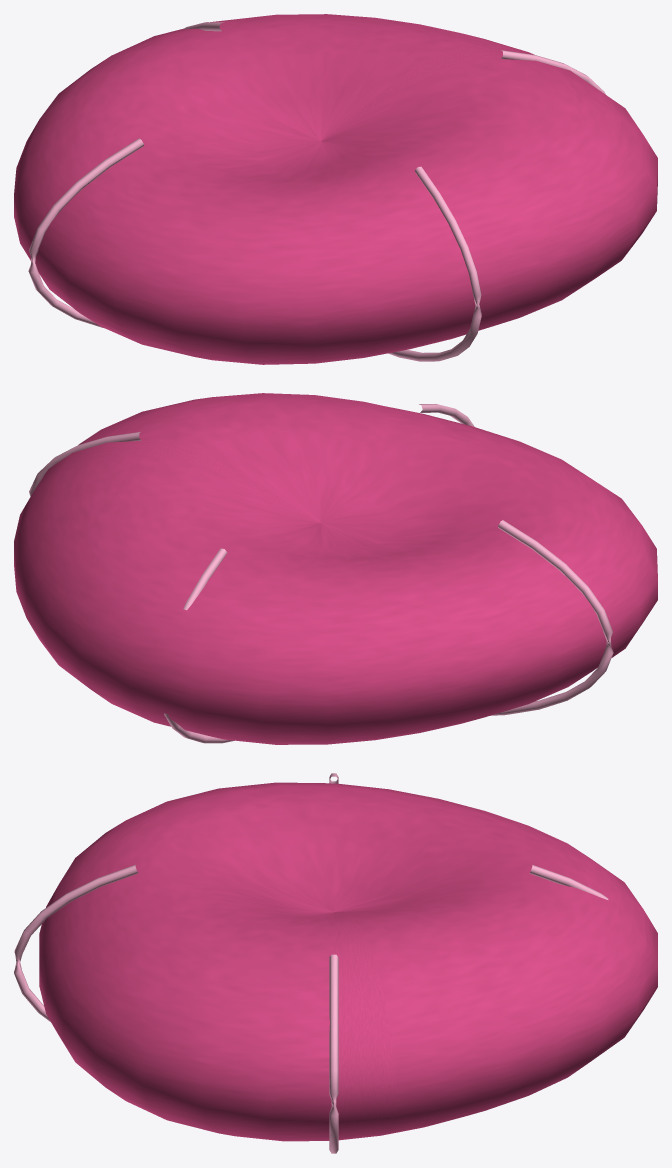
The model's file is citadel_party_beanbag.glb.
3 renders of one model, top to bottom at view 1: azimuth 30°, elevation 25°; view 2: azimuth 150°, elevation 25°; view 3: azimuth 270°, elevation 25°, orthographic.
Parts seen in each view (by area): view 1: Velvet_Pink, Satin_Blush2; view 2: Velvet_Pink, Satin_Blush2; view 3: Velvet_Pink, Satin_Blush2.
Part boxes in pixels (bbox=[...]): Velvet_Pink: bbox=[14, 14, 657, 364]; Satin_Blush2: bbox=[28, 22, 605, 361]; Velvet_Pink: bbox=[14, 393, 657, 744]; Satin_Blush2: bbox=[29, 404, 613, 743]; Velvet_Pink: bbox=[39, 782, 657, 1141]; Satin_Blush2: bbox=[14, 773, 608, 1153].
Size of the model in its own units: 1.74 by 0.6032 by 1.65.
Materials: 2 (2 with a texture image).
